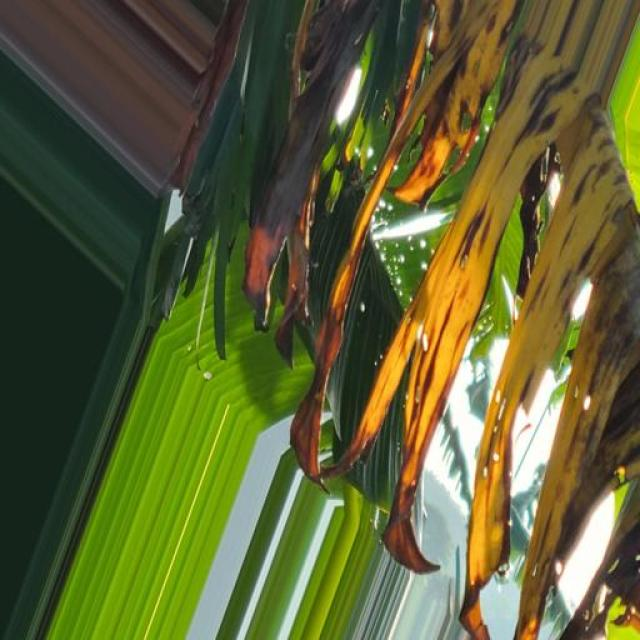Cordana: (199, 0, 640, 640)
